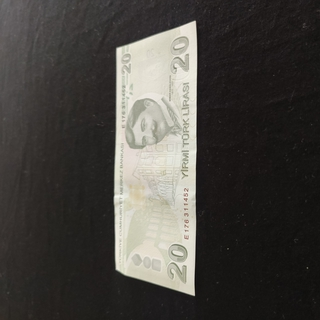20TLBack: (113, 20, 197, 297)
